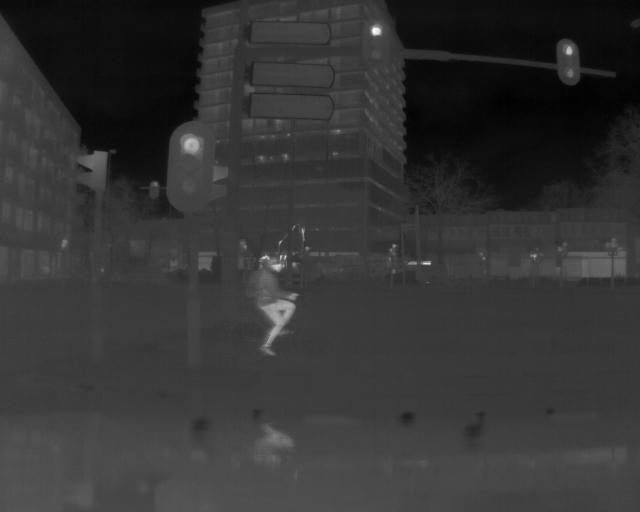person: (245, 253, 301, 358)
